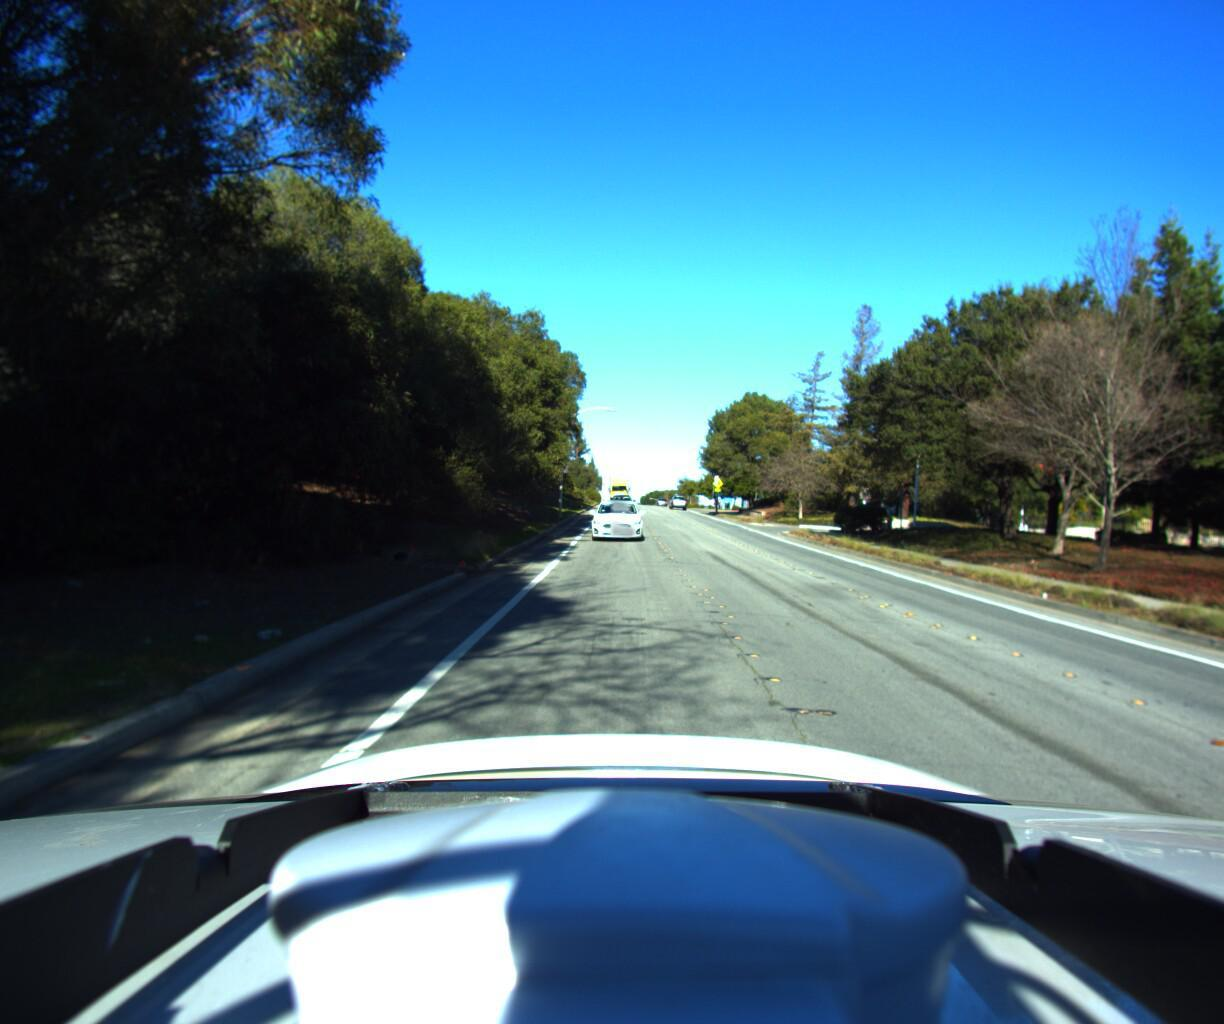car: (584, 491, 645, 546), (665, 494, 685, 513)
